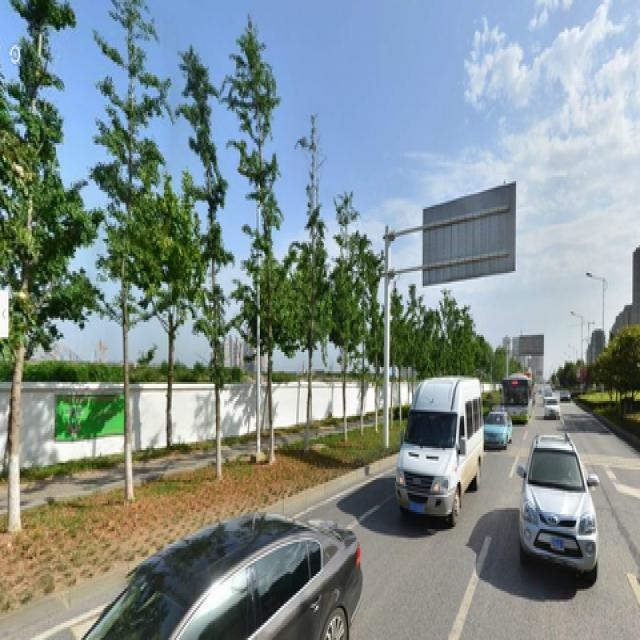gink: (181, 42, 256, 474)
